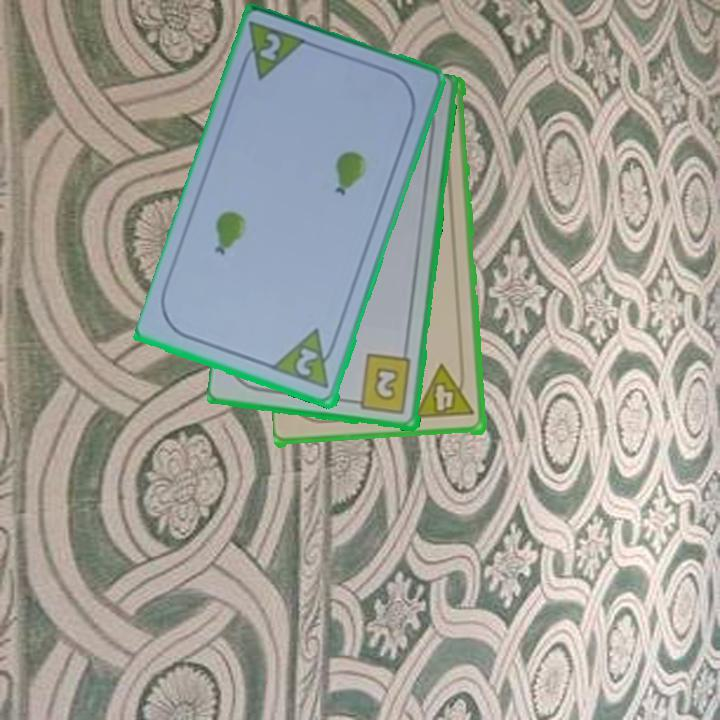2b: (348, 352, 414, 417)
2p: (270, 326, 342, 393), (256, 29, 284, 65)
4p: (412, 362, 478, 422)
